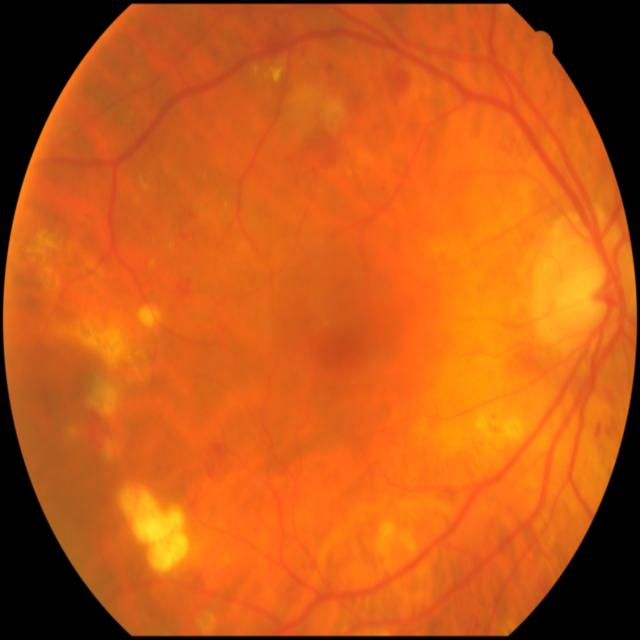OC: (562, 260, 612, 324)
OD: (532, 207, 632, 352)
